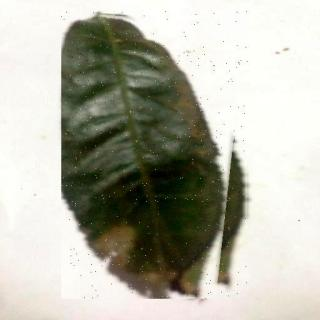Red Leaf Spot: (63, 12, 249, 300)
